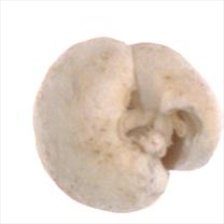L3: (115, 87, 200, 186)
L4: (33, 37, 221, 213)
